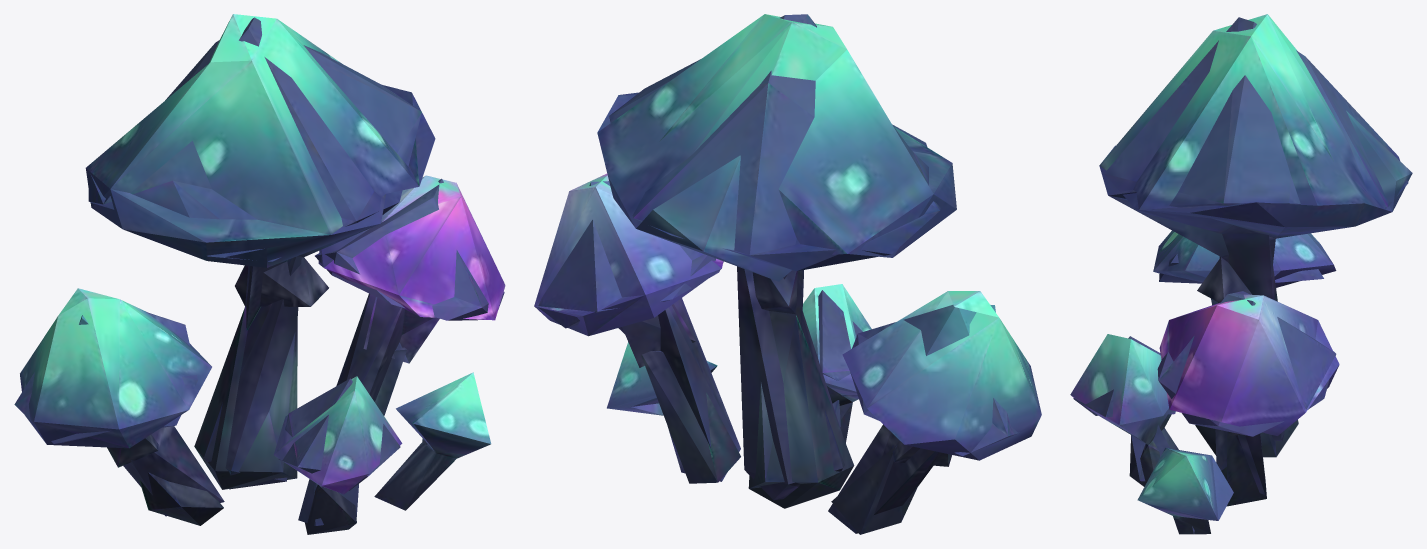
The model's file is b-champignons-semis.glb.
The picture shows the model from 3 angles, left to right: view 1: azimuth 30°, elevation 25°; view 2: azimuth 150°, elevation 25°; view 3: azimuth 270°, elevation 25°; orthographic projection. The views are drawn at different scales.
Visible parts, largest first — view 1: b-champignons-semis; view 2: b-champignons-semis; view 3: b-champignons-semis.
Part boxes in pixels (box(x1,y1,x2,y2)): b-champignons-semis: box(14, 14, 505, 534); b-champignons-semis: box(534, 14, 1041, 534); b-champignons-semis: box(1070, 14, 1412, 534).
Bounding box in the file's own units: 1.97 × 1.99 × 1.33.
Materials: 1 (1 with a texture image).
